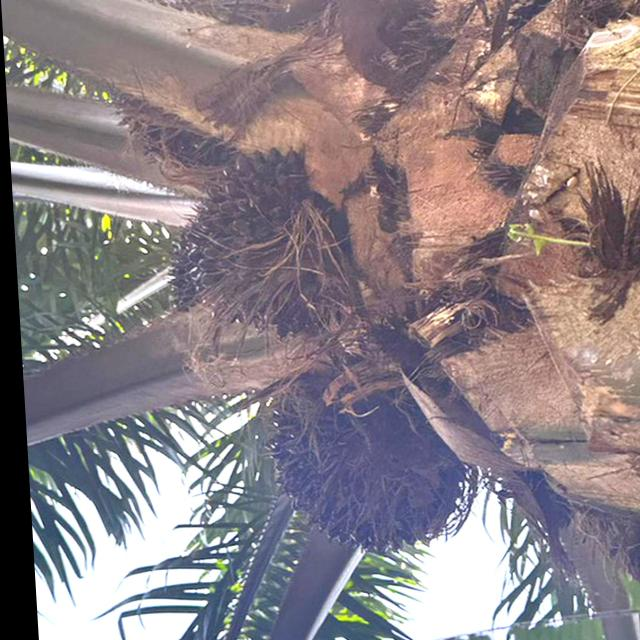almost: (252, 364, 466, 562), (148, 146, 325, 336)
